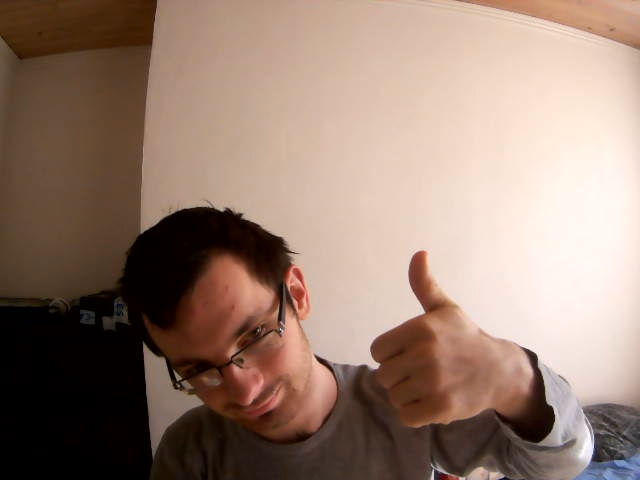nice: (364, 247, 494, 431)
